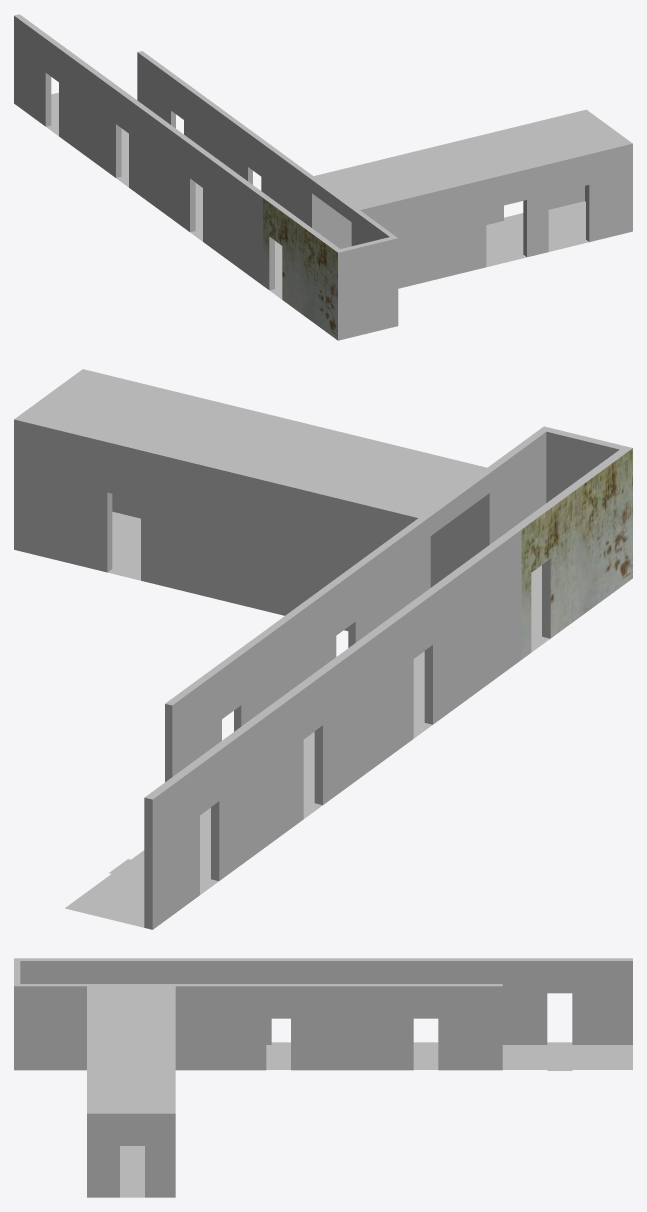
Rendered from hallway.FBX.
The picture shows the model from 3 angles, top to bottom: view 1: azimuth 30°, elevation 25°; view 2: azimuth 150°, elevation 25°; view 3: azimuth 270°, elevation 25°; orthographic projection. The views are drawn at different scales.
Visible parts, largest first — view 1: hallway_walls, hallway_floor; view 2: hallway_walls, hallway_floor; view 3: hallway_walls, hallway_floor.
Boxes of the visible parts, left/top/right/bottom form: hallway_walls: left=14, top=14, right=632, bottom=340; hallway_floor: left=46, top=92, right=588, bottom=299; hallway_walls: left=14, top=369, right=632, bottom=929; hallway_floor: left=65, top=511, right=549, bottom=927; hallway_walls: left=14, top=958, right=632, bottom=1197; hallway_floor: left=120, top=1042, right=632, bottom=1197.
Size of the model in its own units: 1108 by 280 by 1867.
